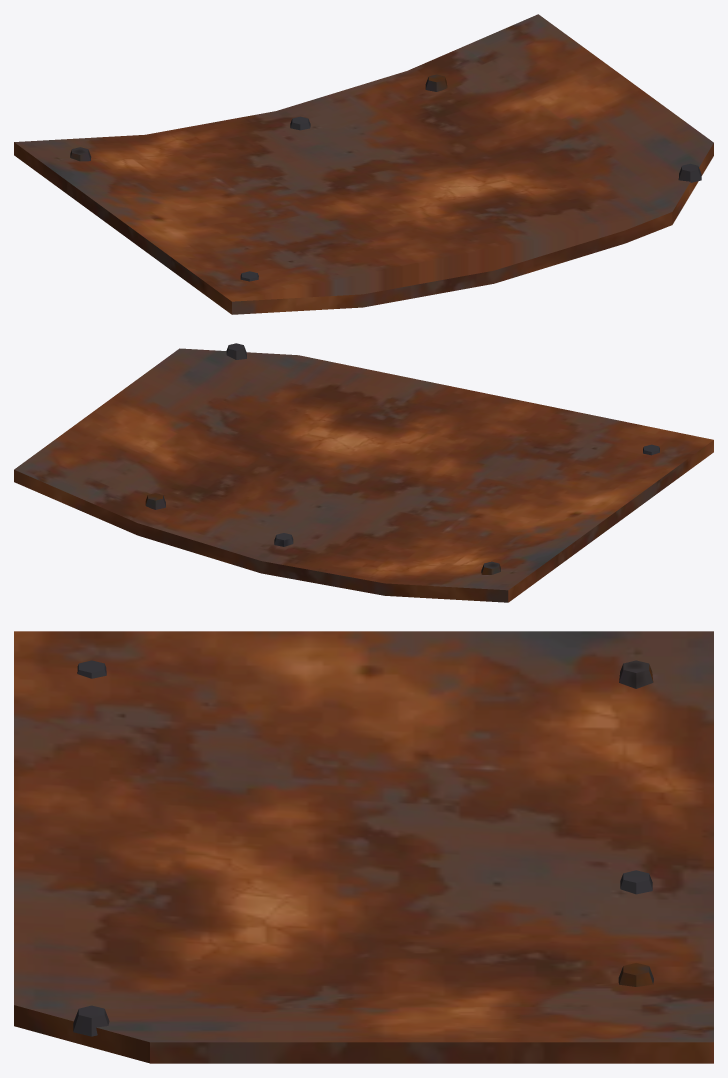
File: Rivet_Plate.glb
3 views of the same model, one above another, from view 1: azimuth 30°, elevation 25°; view 2: azimuth 150°, elevation 25°; view 3: azimuth 270°, elevation 25° (orthographic). The views are drawn at different scales.
Parts seen in each view (by area): view 1: Rivet_Plate; view 2: Rivet_Plate; view 3: Rivet_Plate.
Part boxes in pixels (<box>): Rivet_Plate: <box>14,14,713,314</box>; Rivet_Plate: <box>14,343,713,602</box>; Rivet_Plate: <box>14,631,713,1063</box>.
Bounding box in the file's own units: 0.5 × 0.042 × 0.36.
Materials: 2 (2 with a texture image).
